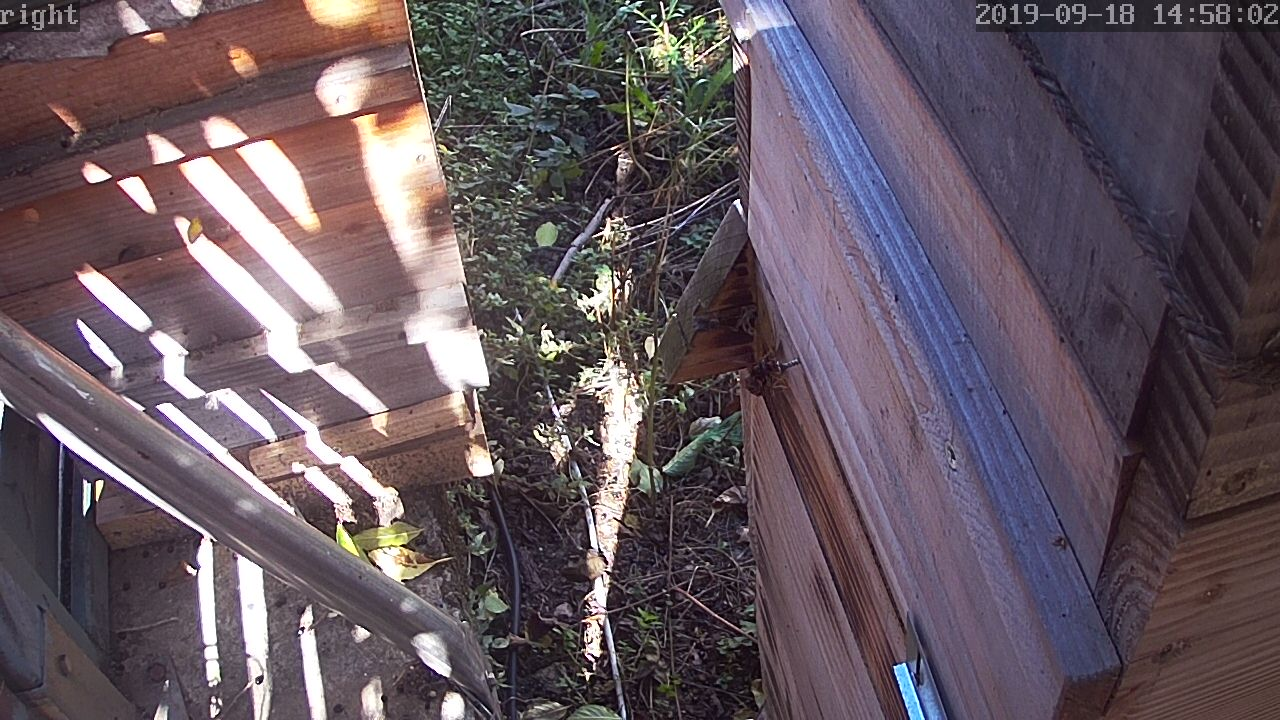hornet: (738, 350, 795, 399)
